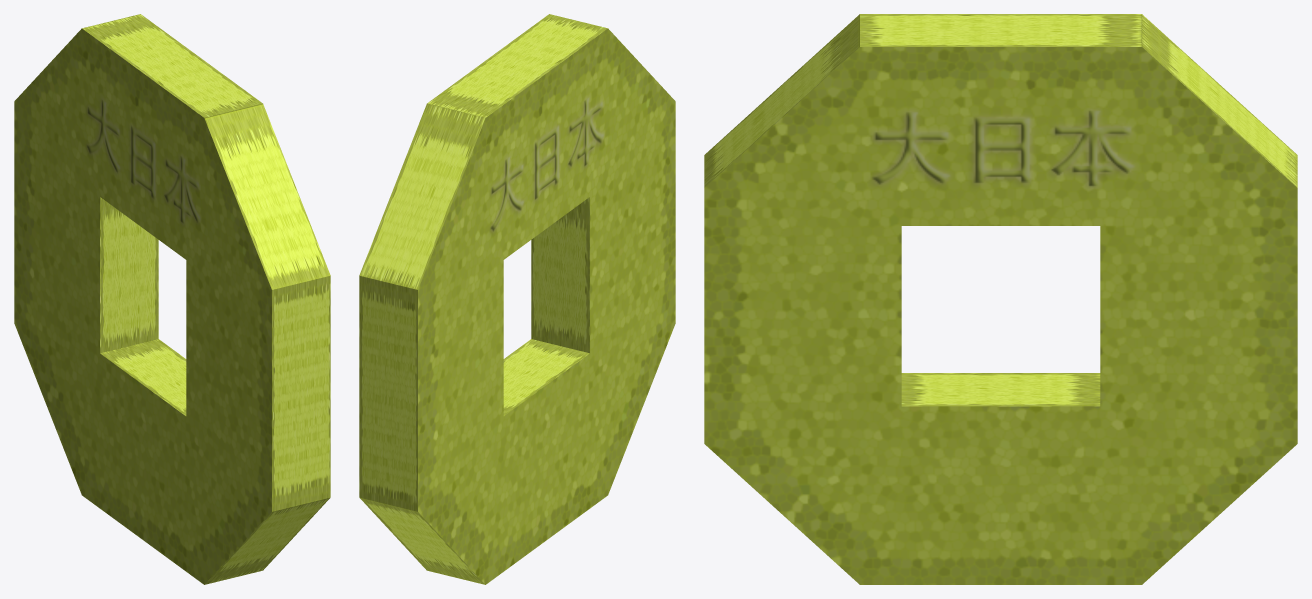
Rendered from coin.fbx.
3 renders of one model, left to right at view 1: azimuth 30°, elevation 25°; view 2: azimuth 150°, elevation 25°; view 3: azimuth 270°, elevation 25°, orthographic. The views are drawn at different scales.
Visible parts, largest first — view 1: Cube; view 2: Cube; view 3: Cube.
Boxes of the visible parts, box(x1,y1,x2,y2) form: Cube: box(14, 14, 330, 584); Cube: box(359, 14, 675, 584); Cube: box(704, 14, 1297, 584).
Bounding box in the file's own units: 26.33 × 200 × 200.
